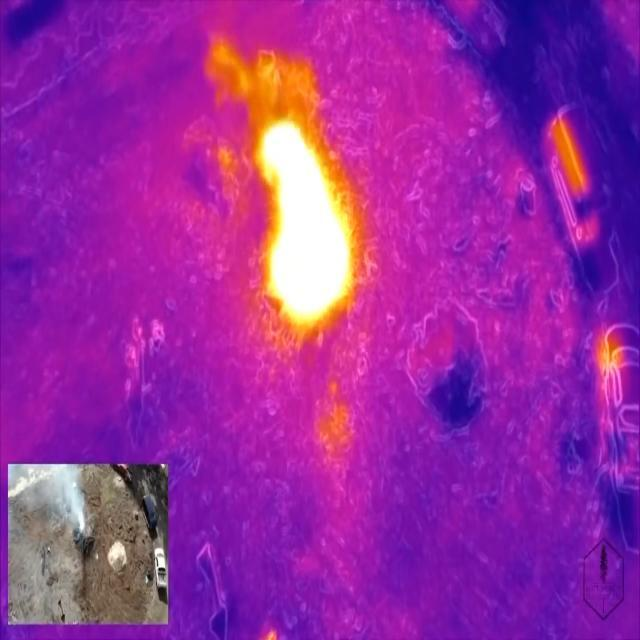fire: (254, 120, 357, 331)
